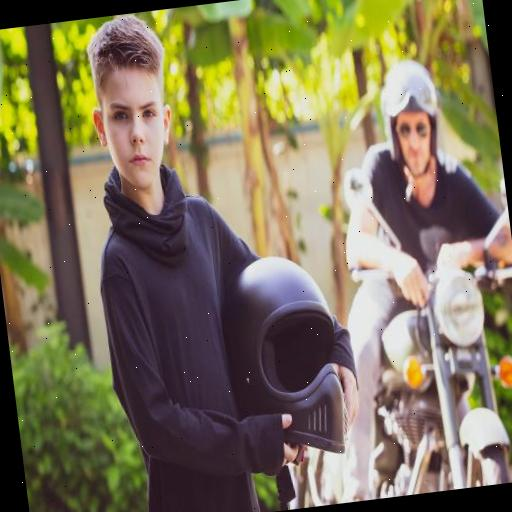helmet: (318, 34, 512, 489)
